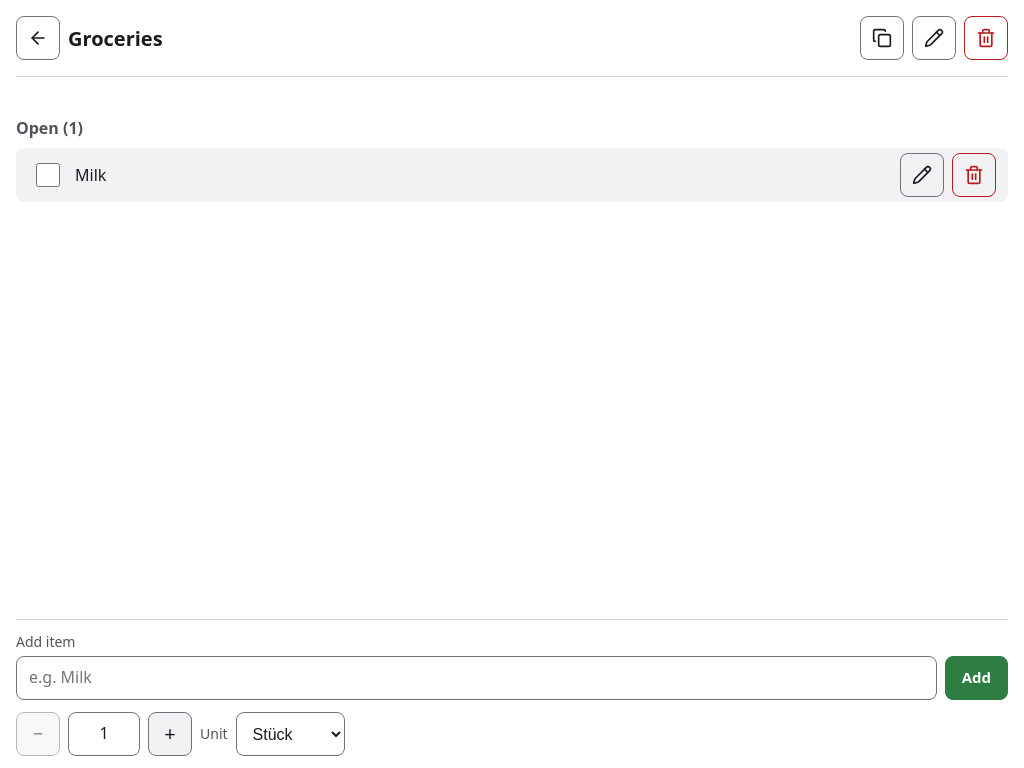
it: offline outbox — pending-create coalescing (US-O.2 KD3) › collapses an offline add → check into a single POST carrying the merged state
Expected: the text "Milk" is shown, [75,164,106,187]
Type "Eggs" into the field labelled "Add item" at (476, 678), box [16,656,937,700]
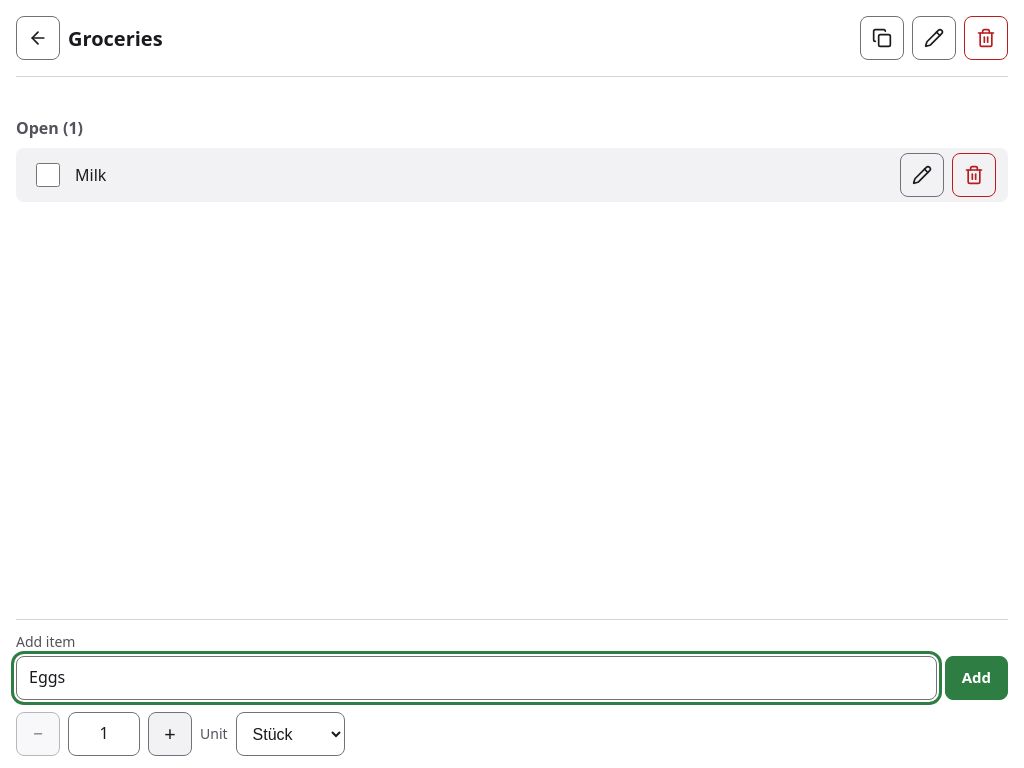
Click the button "Add" at (976, 678), box [945,656,1008,700]
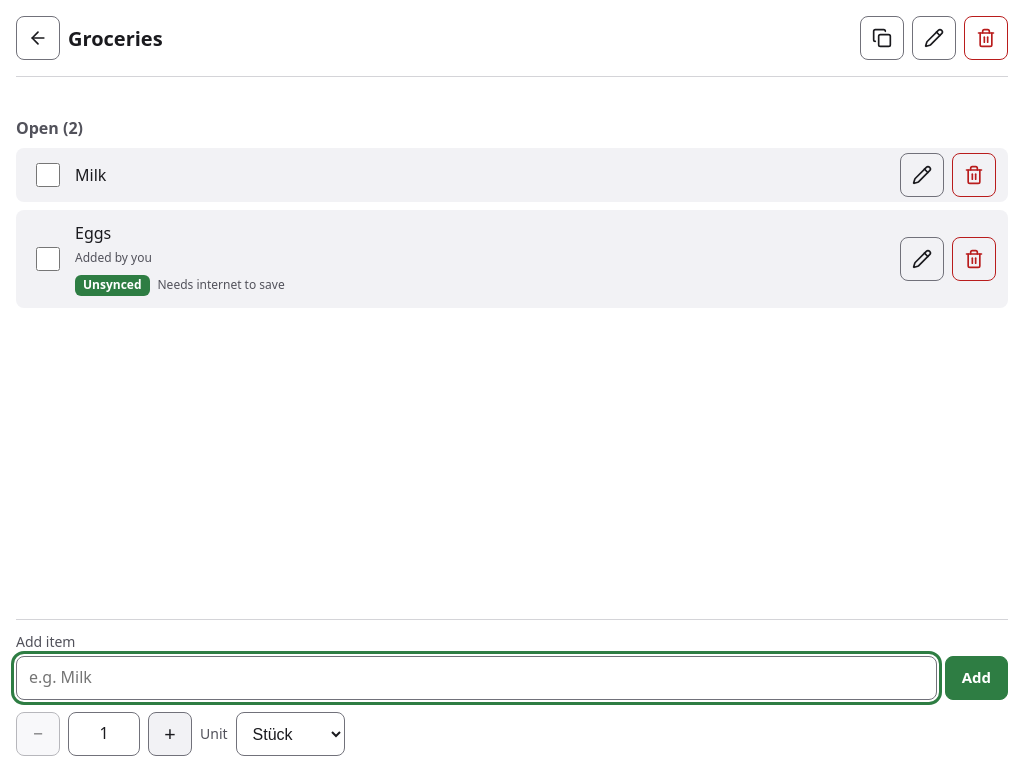
Now the text "Eggs" is shown, box [75,222,111,245]
Now the text "Unsynced" is shown, box [75,275,150,296]
# Check the still-queued item: folds into the create, enqueues nothing.
Click the checkbox labelled "Eggs Added by you Unsynced Needs internet to save" at (48, 259), box [36,247,60,271]
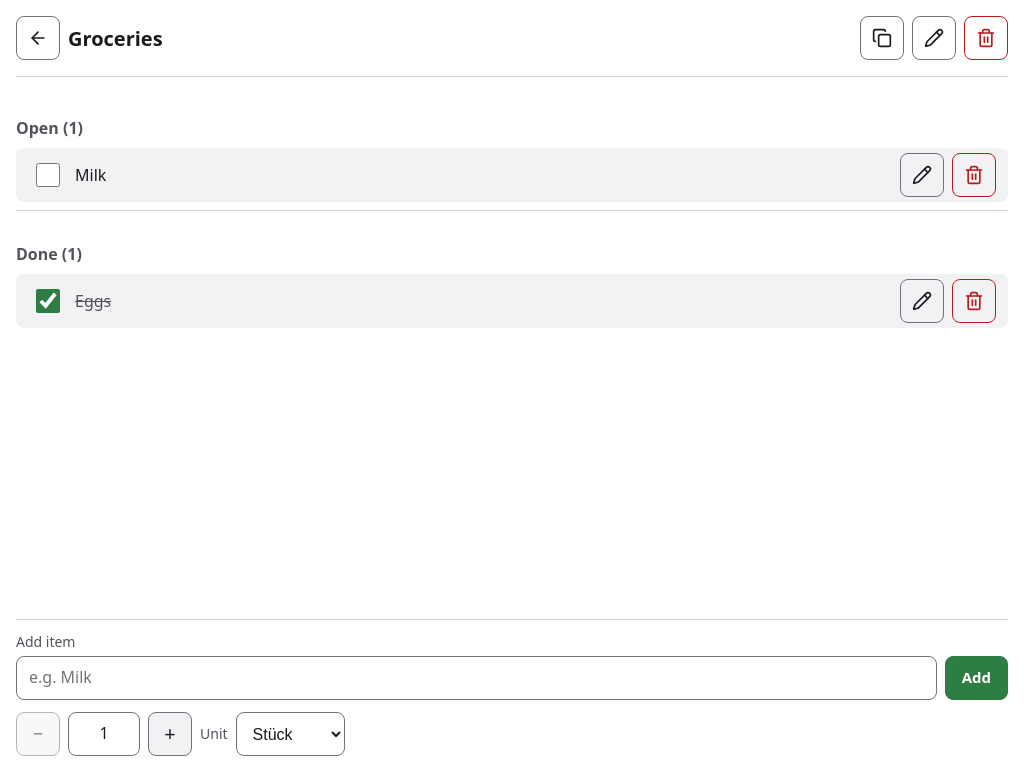
Now the text "Eggs" is shown, box [75,290,111,313]
Now the heading "Done (1)" is shown, box [16,243,82,265]
Now the text "Unsynced" is gone
